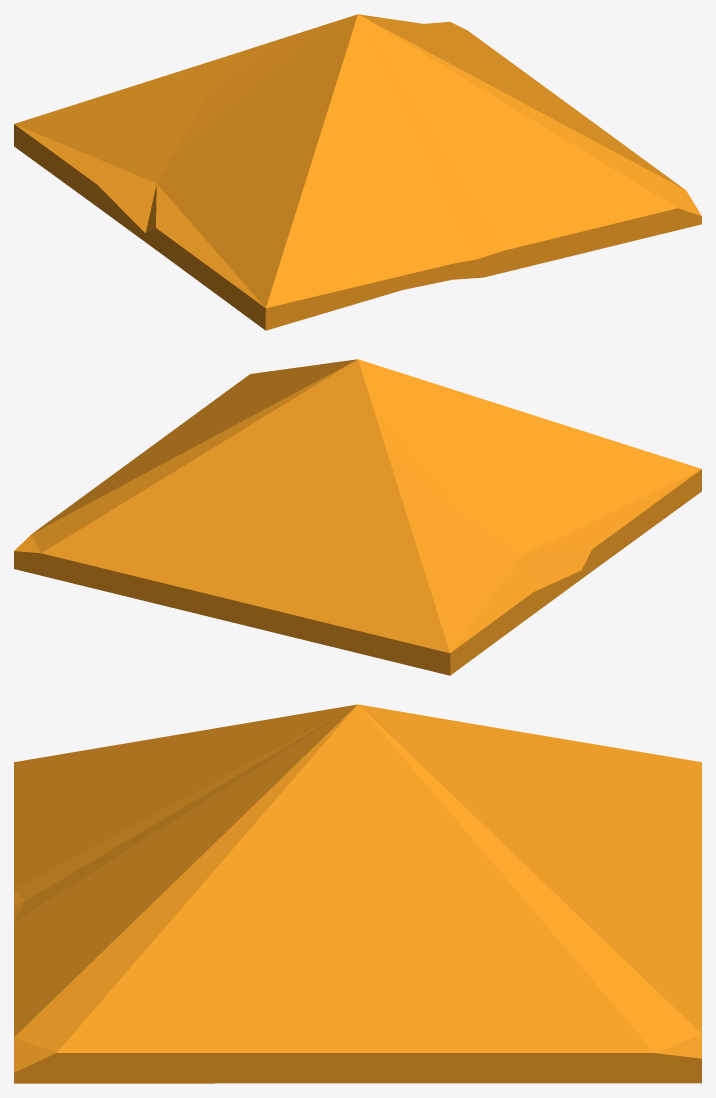
File: SM_Buildings_RoofAngledPoint_2x2_01P.fbx
3 renders of one model, top to bottom at view 1: azimuth 30°, elevation 25°; view 2: azimuth 150°, elevation 25°; view 3: azimuth 270°, elevation 25°, orthographic. The views are drawn at different scales.
Parts seen in each view (by area): view 1: SM_Buildings_RoofAngledPoint_2x2_01P; view 2: SM_Buildings_RoofAngledPoint_2x2_01P; view 3: SM_Buildings_RoofAngledPoint_2x2_01P.
Part boxes in pixels (left/top/right/bottom): SM_Buildings_RoofAngledPoint_2x2_01P: left=14, top=14, right=701, bottom=330; SM_Buildings_RoofAngledPoint_2x2_01P: left=14, top=359, right=701, bottom=675; SM_Buildings_RoofAngledPoint_2x2_01P: left=14, top=704, right=701, bottom=1083.
Size of the model in its own units: 200 by 75.01 by 200.
